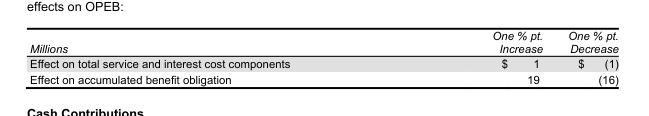table: (29, 29, 617, 84)
table column: (29, 29, 390, 84), (390, 29, 554, 84), (554, 29, 617, 84)
table column header: (29, 29, 617, 55)
table row: (29, 29, 617, 55), (29, 55, 617, 71), (29, 71, 617, 84)
